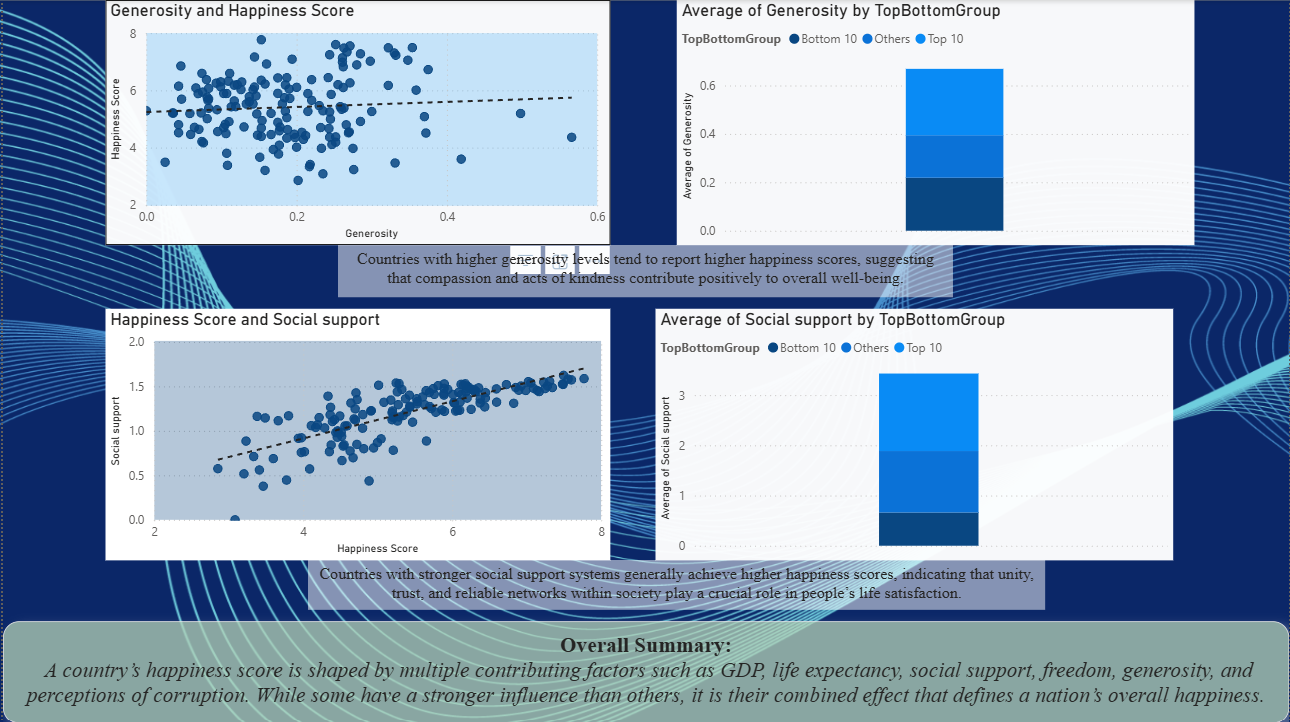

This screenshot's page, from the dashboard's own definition file:
{"tool":"powerbi","page":{"name":"Page 3","canvas":[1280,720],"ordinal":2},"visuals":[{"type":"scatterChart","fields":{"Y":["2019.Happiness Score"],"X":["2019.Generosity"]},"box":[102,0,502.6,243.8],"z":0},{"type":"scatterChart","fields":{"Y":["2019.Social support"],"X":["2019.Happiness Score"]},"box":[102,307.3,502.6,250],"z":1000},{"type":"columnChart","fields":{"Series":["2019.TopBottomGroup"],"Y":["Avg(2019.Generosity)"]},"box":[670.5,0,515,243.8],"z":2000},{"type":"columnChart","fields":{"Y":["Avg(2019.Social support)"],"Series":["2019.TopBottomGroup"]},"box":[649.3,307.3,515,250],"z":3000},{"type":"textbox","box":[333.4,243.8,612,52.2],"z":4000},{"type":"textbox","box":[303.5,557.3,733.9,49.8],"z":5000},{"type":"textbox","box":[0,618.2,1280,102],"z":6000}]}

Visuals, with their boxes in screenshot pixels (x1, y1, x2, y2), scaled from the page's 1280x720 canvas onto the 1290x722 screenshot:
scatterChart - 2019.Happiness Score x 2019.Generosity: bbox=[103, 0, 609, 244]
scatterChart - 2019.Social support x 2019.Happiness Score: bbox=[103, 308, 609, 559]
columnChart - 2019.TopBottomGroup x Avg(2019.Generosity): bbox=[676, 0, 1195, 244]
columnChart - Avg(2019.Social support) x 2019.TopBottomGroup: bbox=[654, 308, 1173, 559]
textbox: bbox=[336, 244, 953, 297]
textbox: bbox=[306, 559, 1046, 609]
textbox: bbox=[0, 620, 1289, 721]
